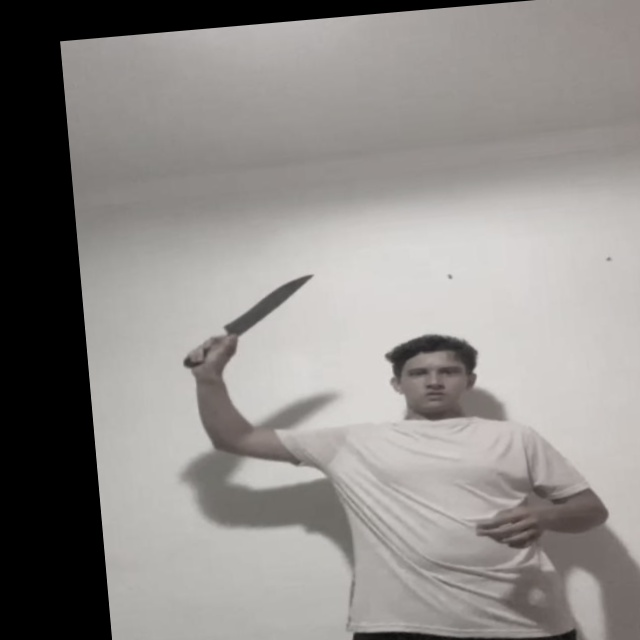Sharp-Object: (219, 274, 320, 331)
